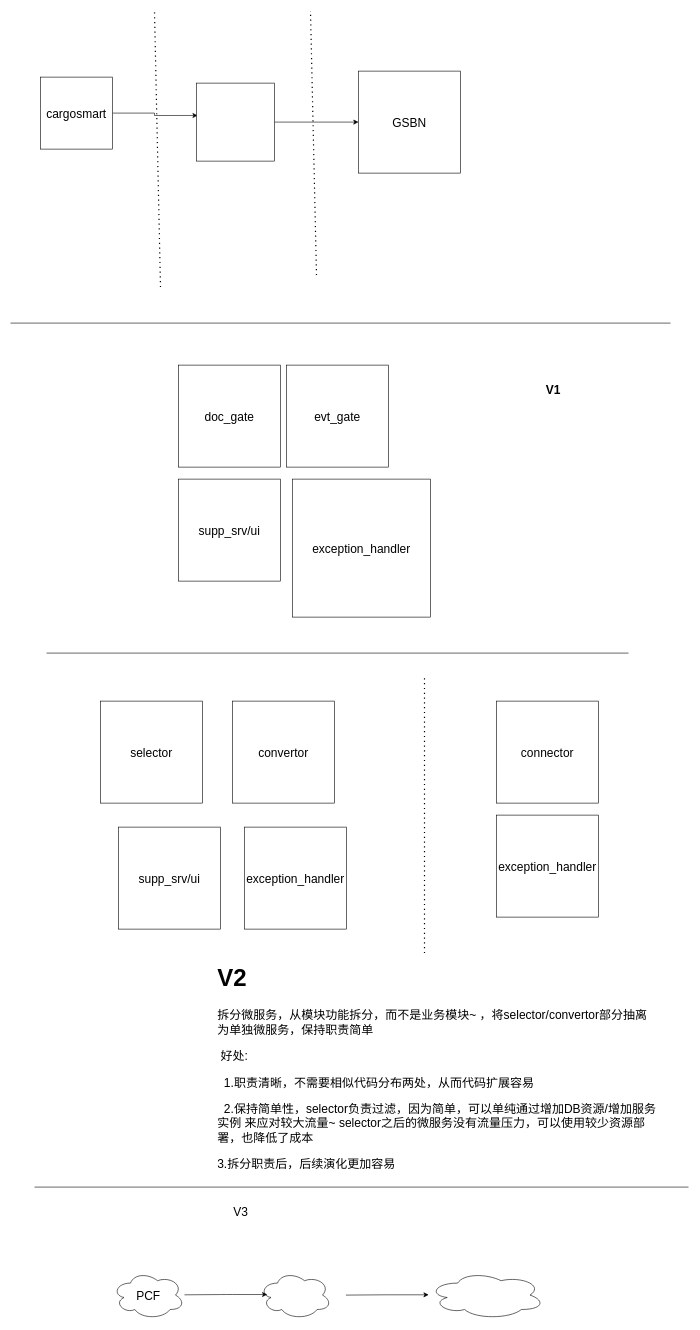
The diagram is 700 pixels wide and 1330 high, and some of its shapes have lost their labels. The box of each missing label's shape, as (x1, y1, x2, y2) in pixels:
AKS: (259, 1270, 332, 1319)
BCCD: (196, 82, 274, 161)
Hybird Cloud: (428, 1270, 544, 1319)
